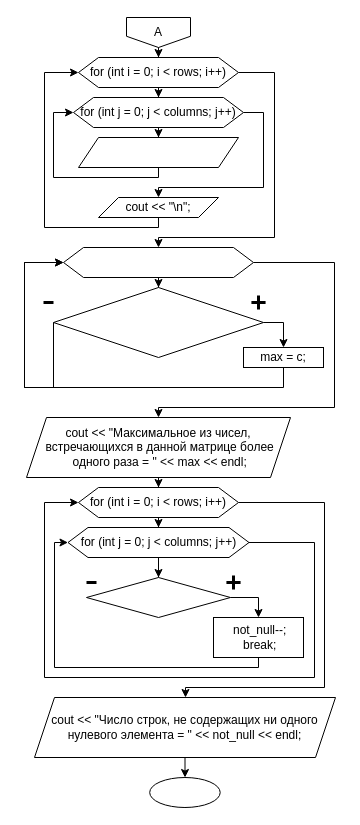
Image size: 360x825. Some labels were removed from this diagram. The shapes that lost their labels are listed below. From the top down, each one's centre as x and y in pixels, then its label:
(x=158, y=152): cout << array[i][j] << " ";
(x=158, y=262): for (int c = 0; c <= max_v; c++)
(x=158, y=322): if ((unique[c] >= 2) && (c > max))
(x=158, y=597): if (array[i][j] == 0)
(x=184, y=792): конец
